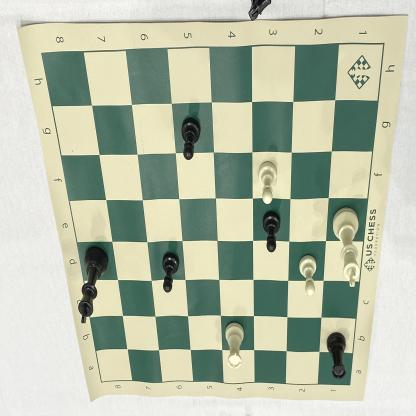black-king: (75, 241, 112, 328)
black-pawn: (176, 111, 206, 165), (157, 247, 185, 300), (260, 207, 286, 259)
black-rook: (323, 326, 351, 384)
white-king: (326, 202, 364, 293)
white-pawn: (254, 156, 282, 207), (296, 252, 322, 300)
white-rook: (221, 314, 249, 372)
